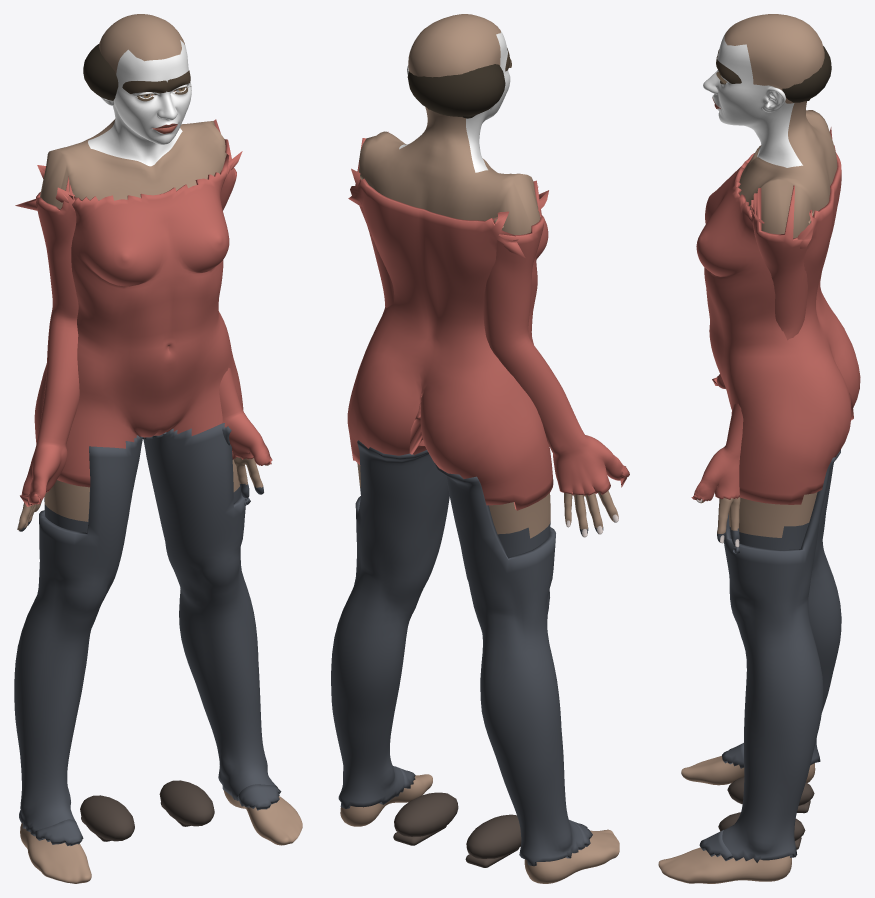
File: hm_ped_dane.glb
3 views of the same model, side by side, from view 1: azimuth 30°, elevation 25°; view 2: azimuth 150°, elevation 25°; view 3: azimuth 270°, elevation 25° (orthographic). The views are drawn at different scales.
Visible parts, largest first — view 1: hm_ped_dane; view 2: hm_ped_dane; view 3: hm_ped_dane.
Boxes of the visible parts, x1,y1,x2,y2 form: hm_ped_dane: [14, 14, 302, 883]; hm_ped_dane: [331, 14, 629, 883]; hm_ped_dane: [658, 14, 860, 883].
Bounding box in the file's own units: 0.6305 × 1.84 × 0.4146.
